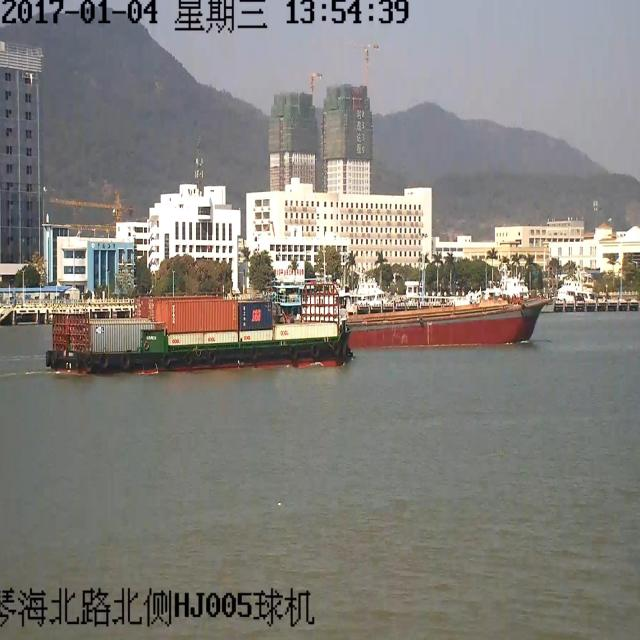cargoship: (51, 285, 353, 384), (355, 270, 543, 340)
